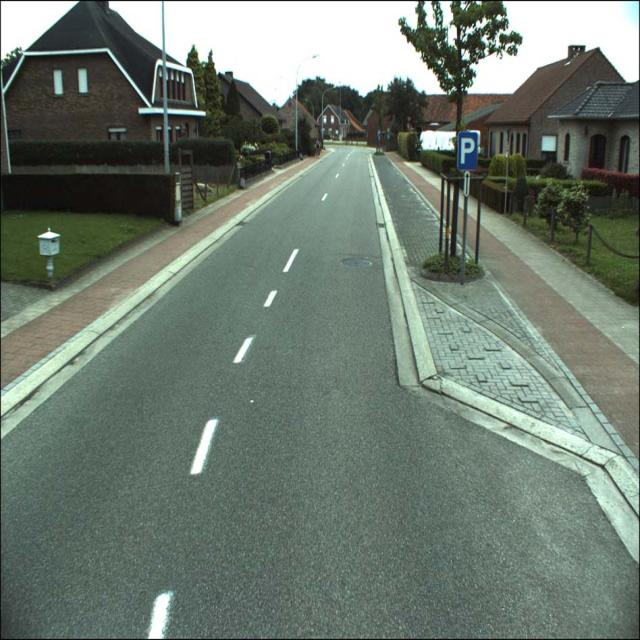park: (458, 131, 478, 169)
